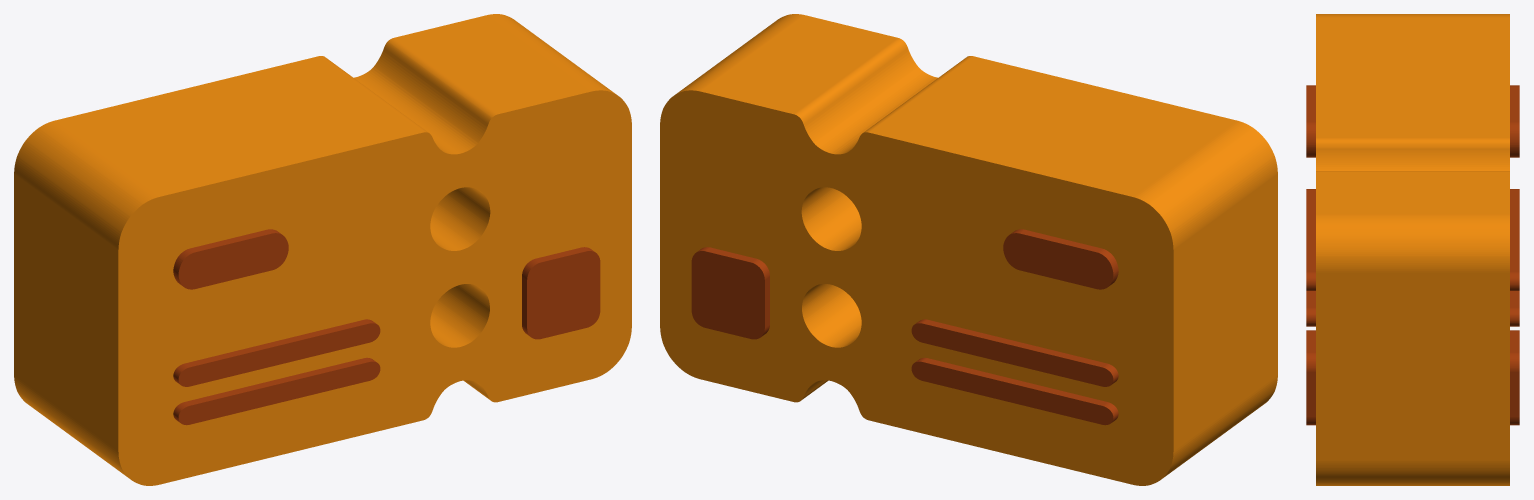
3 renders of one model, left to right at view 1: azimuth 30°, elevation 25°; view 2: azimuth 150°, elevation 25°; view 3: azimuth 270°, elevation 25°, orthographic. The views are drawn at different scales.
Visible parts, largest first — view 1: U+1F3AB_layer00_obj00, U+1F3AB_layer01_obj00; view 2: U+1F3AB_layer00_obj00, U+1F3AB_layer01_obj00; view 3: U+1F3AB_layer00_obj00, U+1F3AB_layer01_obj00.
Boxes of the visible parts, box(x1,y1,x2,y2) form: U+1F3AB_layer00_obj00: box(14, 14, 631, 485); U+1F3AB_layer01_obj00: box(173, 229, 600, 425); U+1F3AB_layer00_obj00: box(660, 14, 1277, 485); U+1F3AB_layer01_obj00: box(691, 229, 1118, 425); U+1F3AB_layer00_obj00: box(1316, 14, 1509, 485); U+1F3AB_layer01_obj00: box(1306, 85, 1519, 425).
Size of the model in its own units: 0.5678 by 0.3042 by 0.22.
